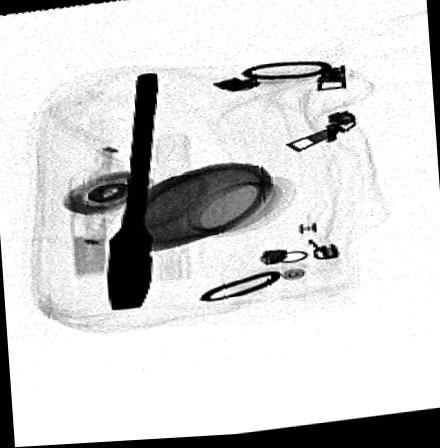Wrench: (106, 70, 159, 313)
